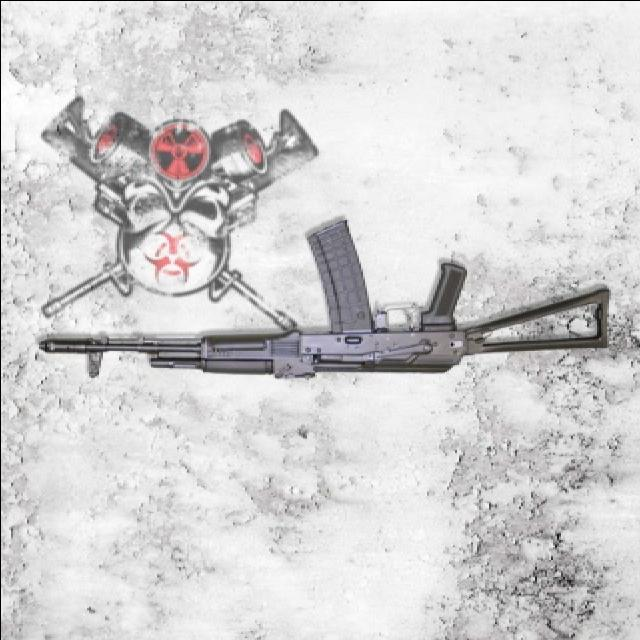rifle: (33, 214, 617, 388)
